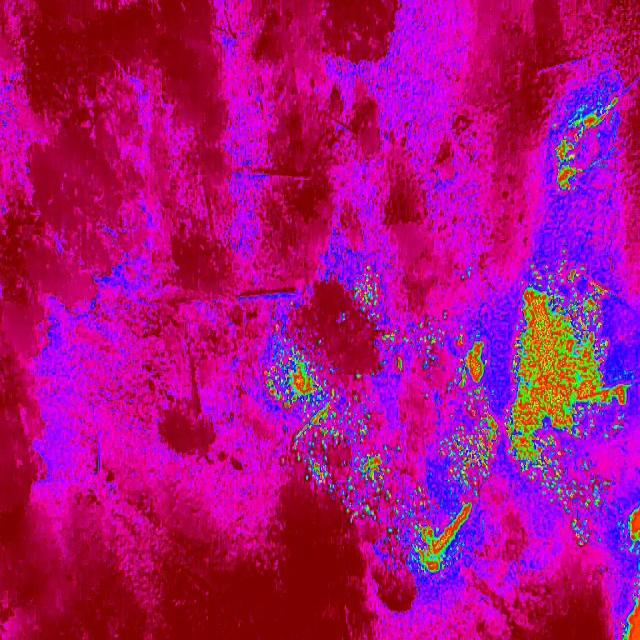fire: (403, 248, 640, 581), (294, 379, 404, 498), (535, 90, 627, 199), (340, 450, 404, 539), (266, 344, 334, 416), (342, 264, 391, 326), (378, 330, 403, 374), (620, 600, 640, 640)
